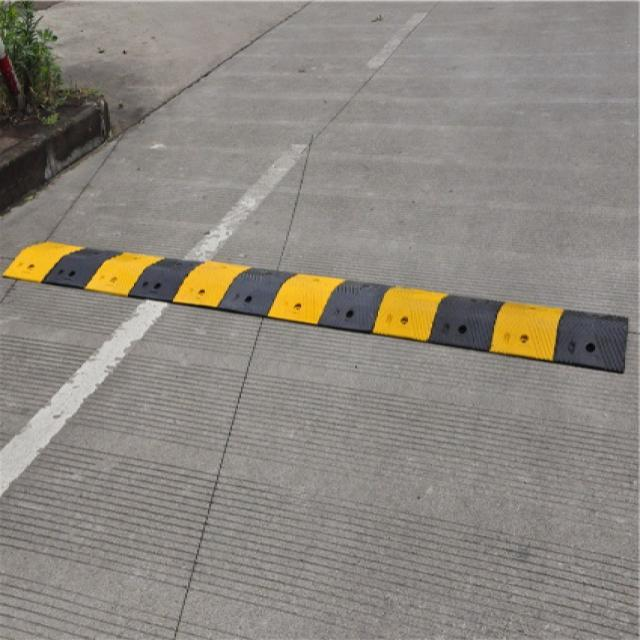Speed Bump: (0, 240, 629, 369)
